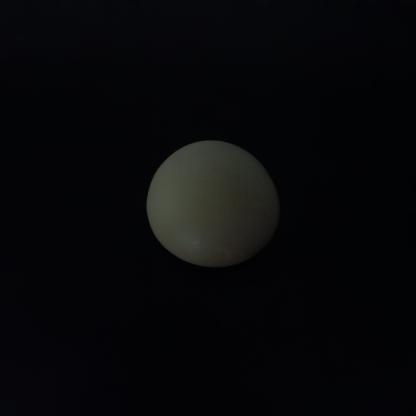egg: (134, 135, 280, 279)
